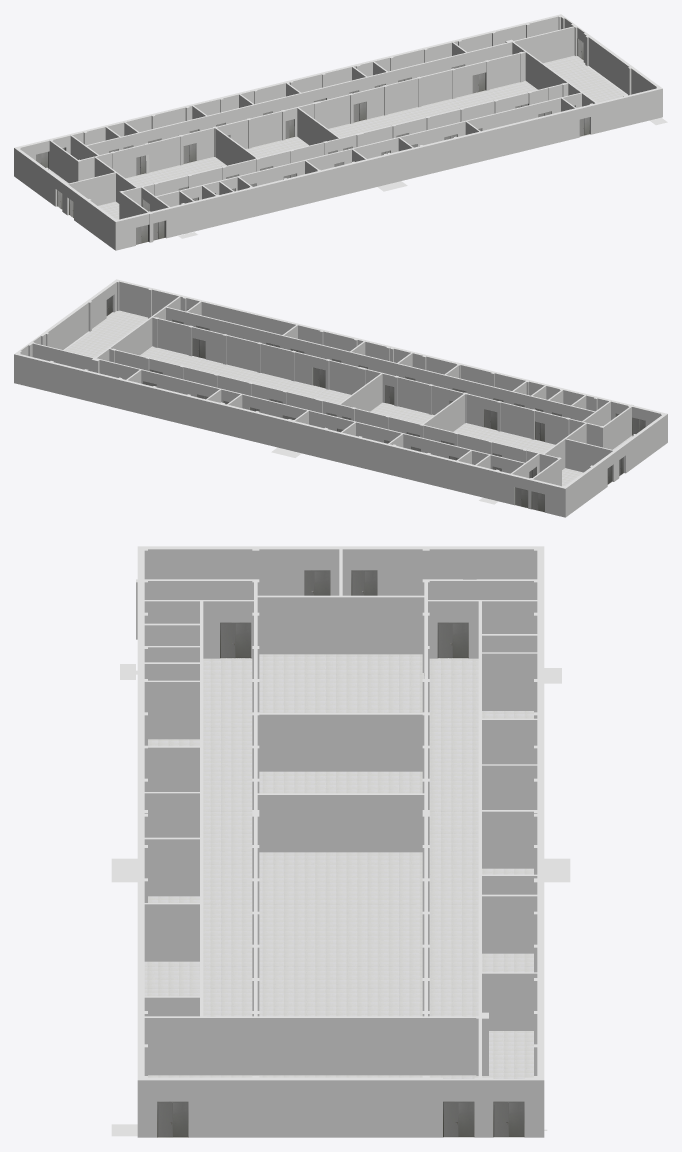
File: Room8.FBX
3 renders of one model, top to bottom at view 1: azimuth 30°, elevation 25°; view 2: azimuth 150°, elevation 25°; view 3: azimuth 270°, elevation 25°, orthographic. The views are drawn at different scales.
Visible parts, largest first — view 1: Room8; view 2: Room8; view 3: Room8.
Part boxes in pixels (box(x1,y1,x2,y2)): Room8: box(14, 14, 667, 250); Room8: box(14, 279, 667, 517); Room8: box(111, 546, 570, 1137).
Bounding box in the file's own units: 72.4 × 3.62 × 26.29.
